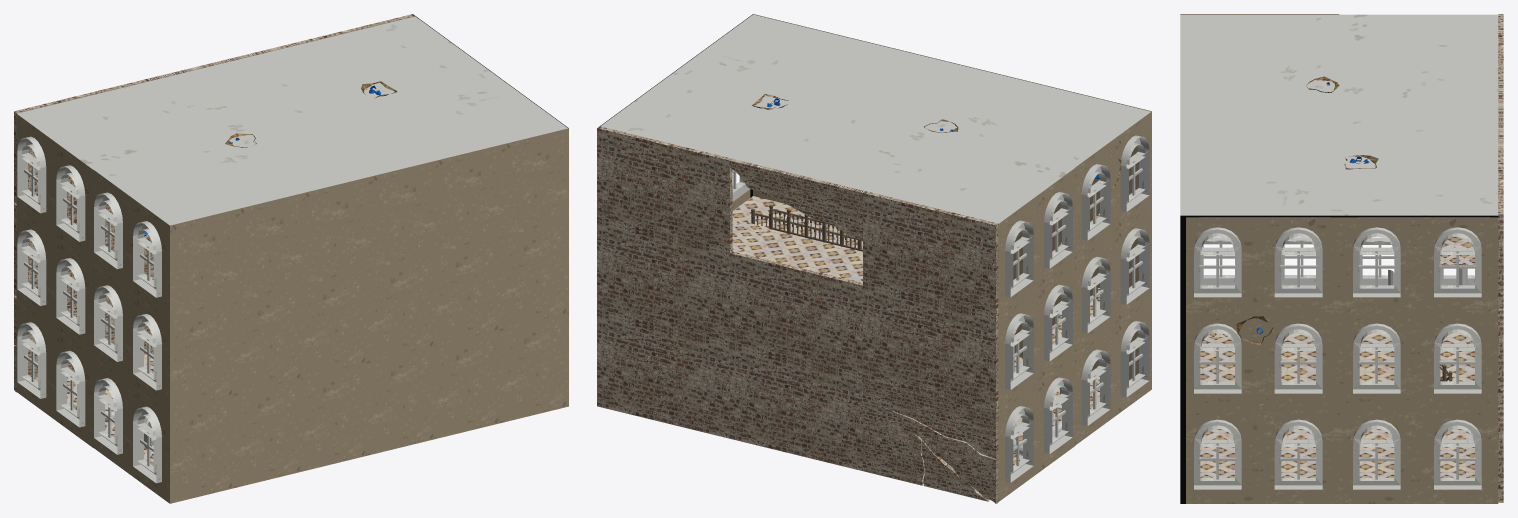
File: hus01_export.obj
The picture shows the model from 3 angles, left to right: view 1: azimuth 30°, elevation 25°; view 2: azimuth 150°, elevation 25°; view 3: azimuth 270°, elevation 25°; orthographic projection. The views are drawn at different scales.
Parts seen in each view (by area): view 1: polySurface1; view 2: polySurface1; view 3: polySurface1.
Boxes of the visible parts, x1=… form: polySurface1: x1=14, y1=14, x2=568, y2=503; polySurface1: x1=597, y1=14, x2=1151, y2=503; polySurface1: x1=1180, y1=14, x2=1503, y2=503.
Size of the model in its own units: 92.32 by 60.74 by 61.
